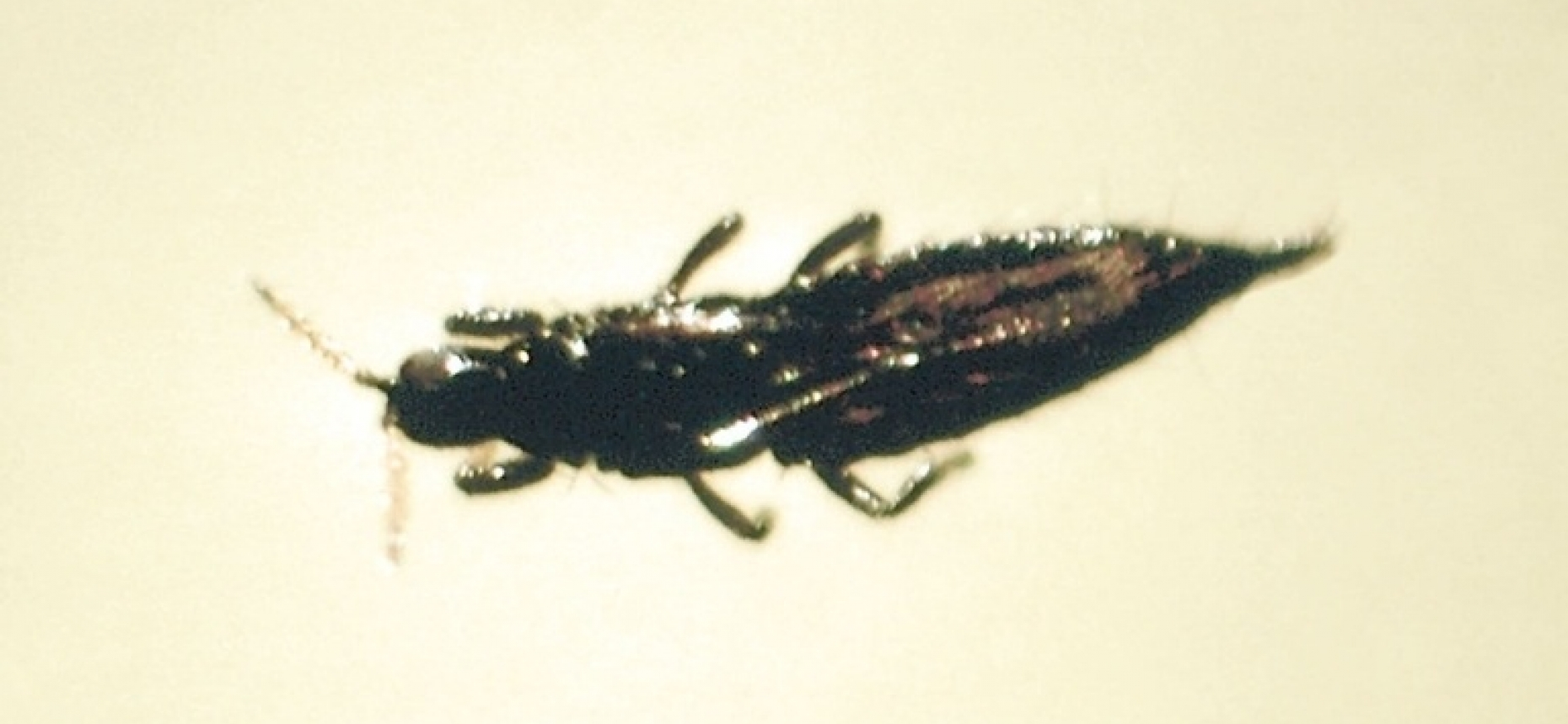Phlaeothripidae: (244, 194, 1340, 567)
